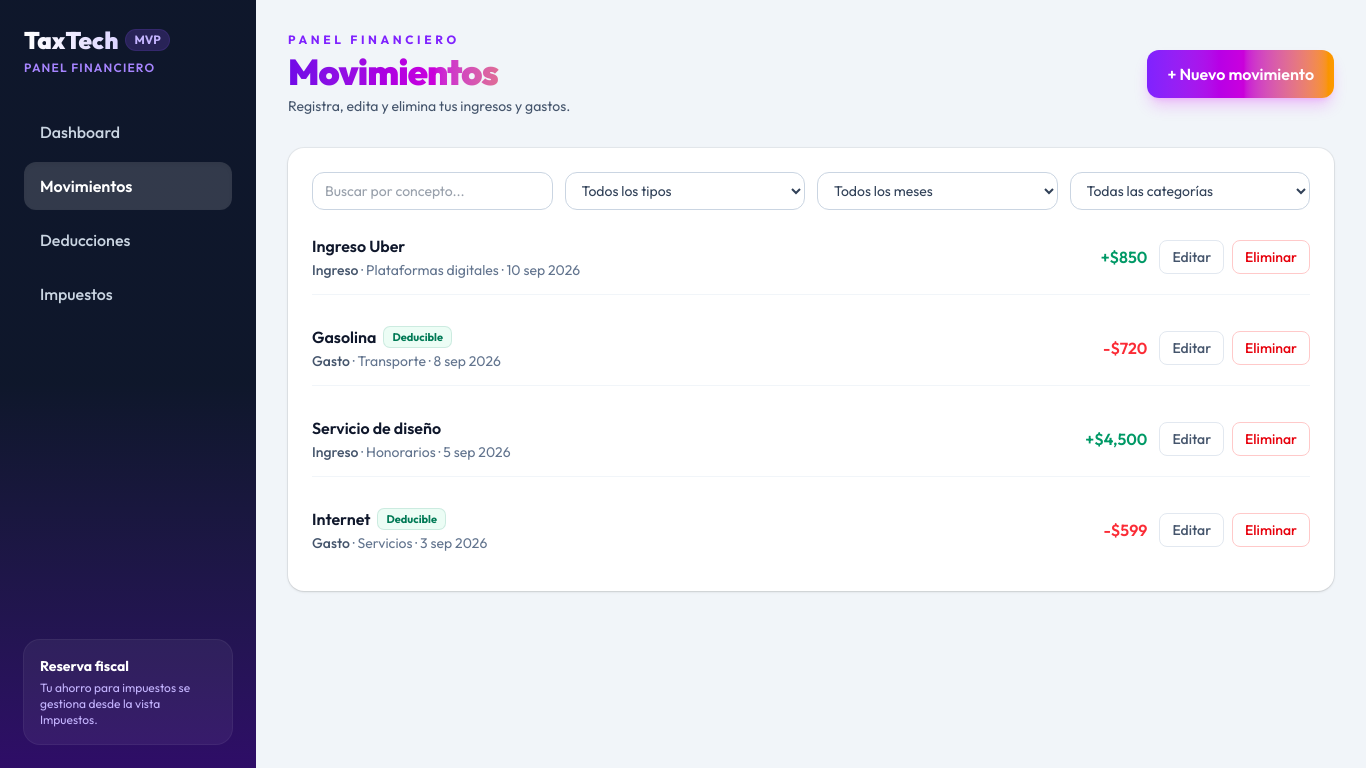
Movimientos — listado › filtra por concepto al escribir en la búsqueda
expect the text "Ingreso Uber" is shown: met, box [312,234,405,258]
Type "internet" into the field named "Buscar movimientos" at (432, 191), box [312,172,552,210]
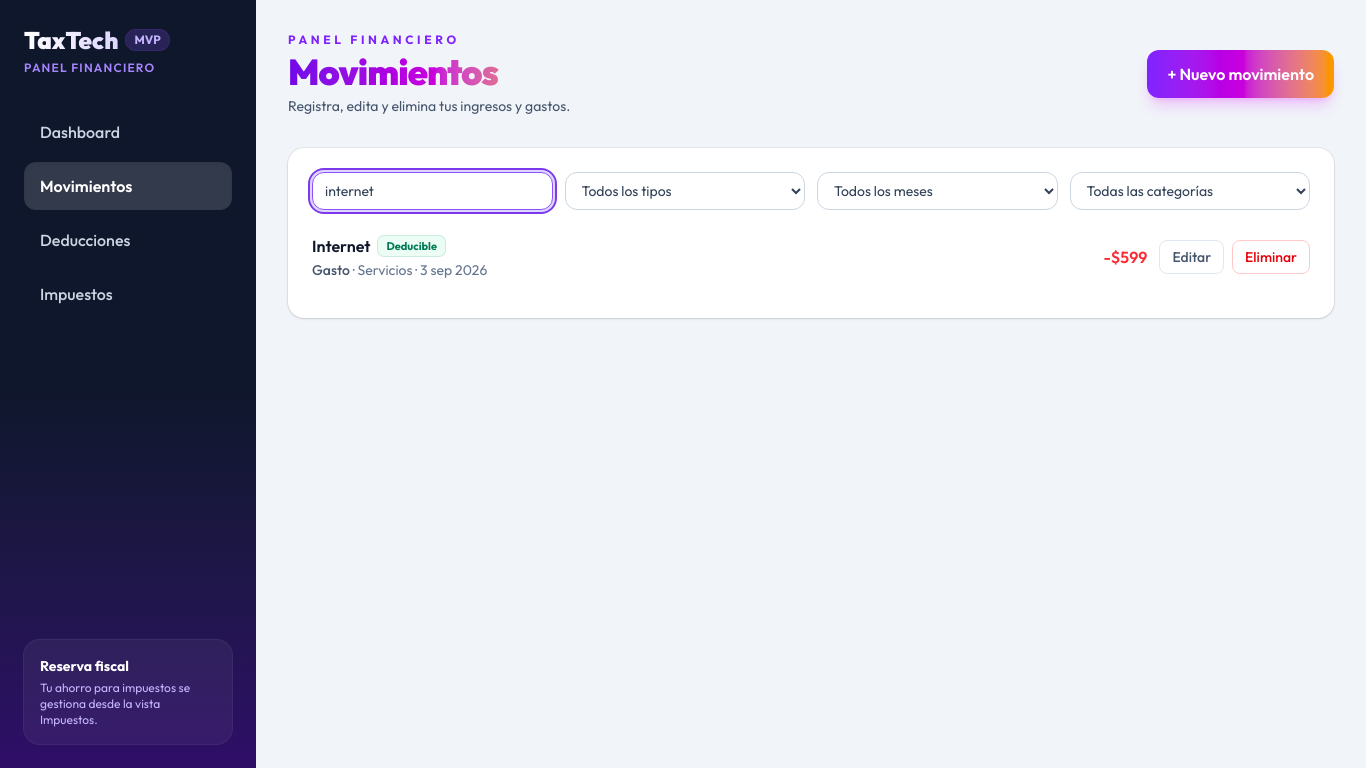
expect the text "Internet" is shown: met, box [312,234,370,258]
expect the text "Gasolina" is gone: met
expect the text "Ingreso Uber" is gone: met
